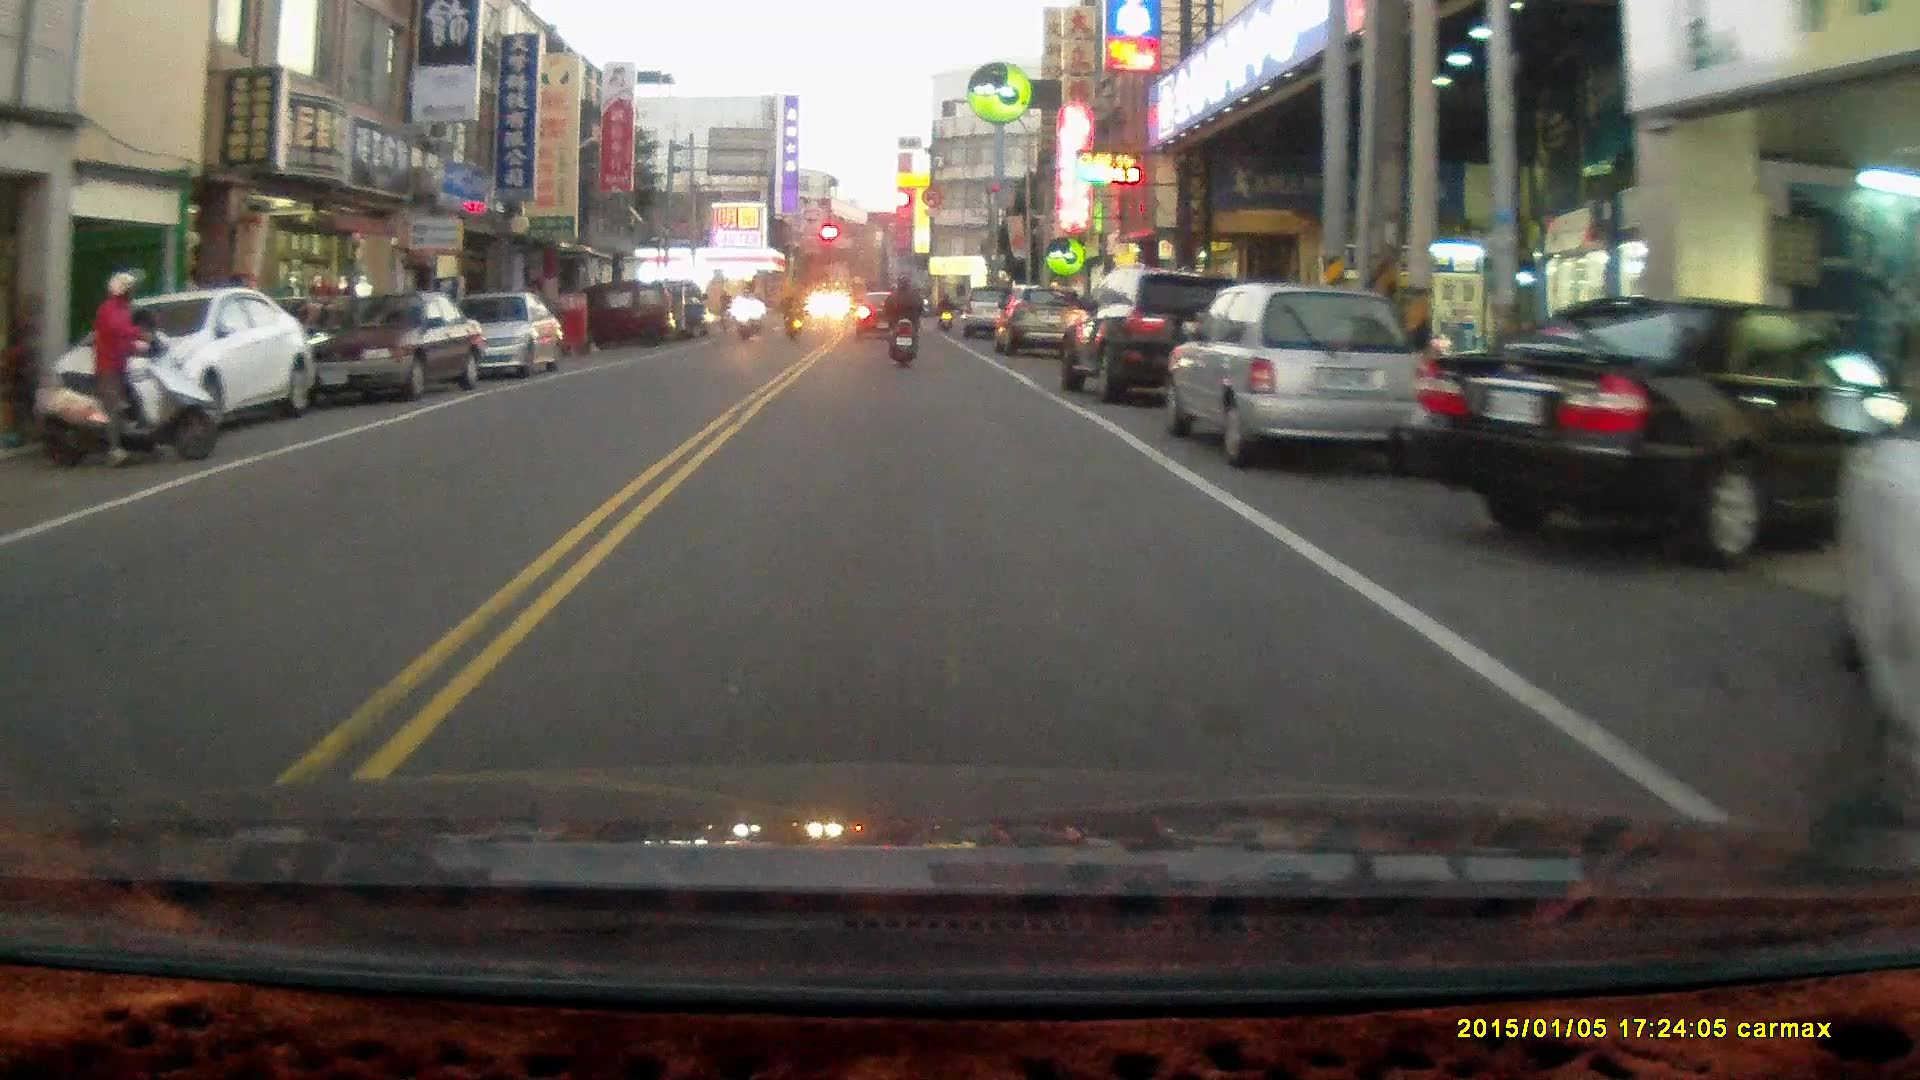rider: (42, 269, 224, 470), (882, 271, 923, 370), (778, 287, 806, 347), (735, 290, 759, 344), (713, 288, 733, 341), (931, 290, 953, 334)
vehicle: (1410, 298, 1894, 581), (1159, 293, 1425, 473), (25, 286, 313, 443), (1054, 268, 1265, 410), (1838, 434, 1920, 785), (284, 296, 481, 410), (439, 293, 566, 385), (1000, 290, 1078, 363), (591, 288, 673, 353)
